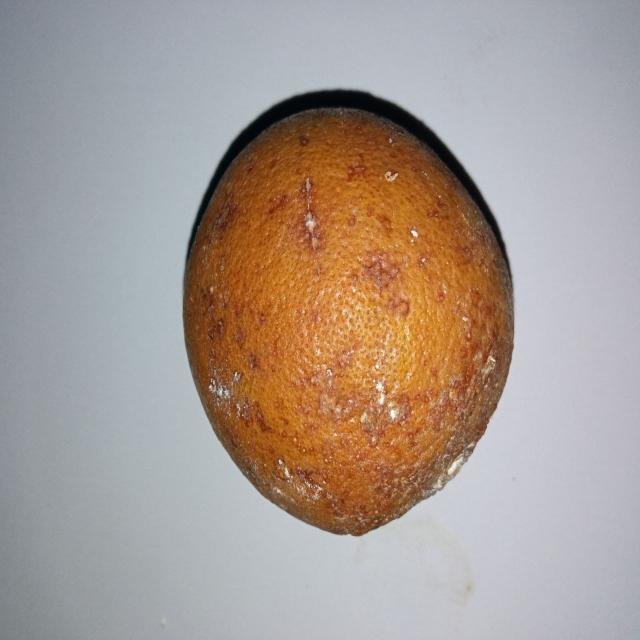rotten_orange: (181, 104, 511, 536)
